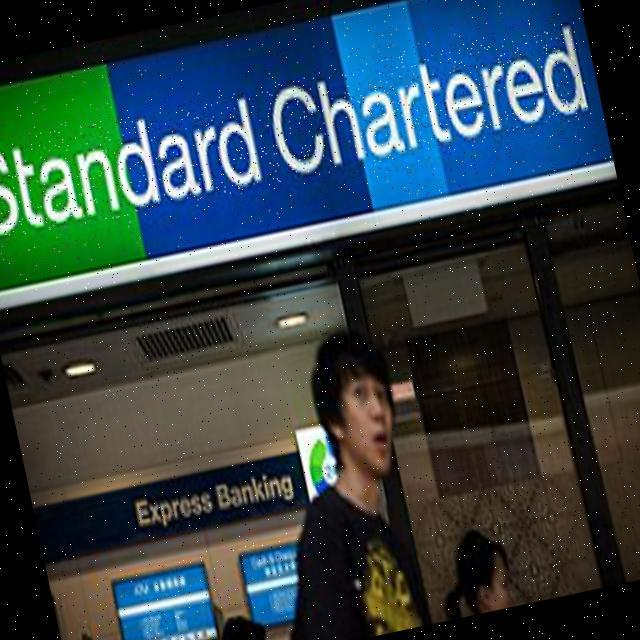Standard Chartered: (0, 17, 593, 245)
